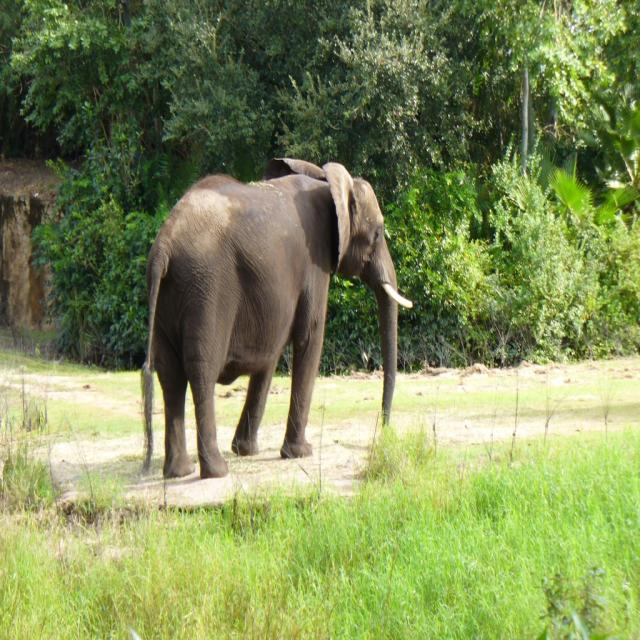Elephant: (142, 153, 411, 475)
